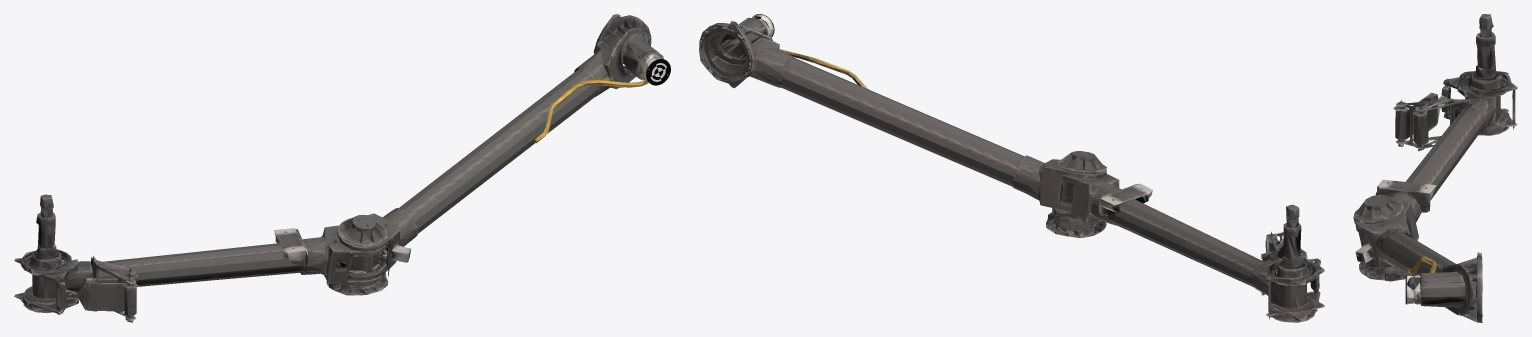
The model's file is rocker_left.obj.
3 renders of one model, left to right at view 1: azimuth 30°, elevation 25°; view 2: azimuth 150°, elevation 25°; view 3: azimuth 270°, elevation 25°, orthographic. The views are drawn at different scales.
Bounding box in the file's own units: 1.78 × 0.4439 × 0.3956.
Materials: 1 (1 with a texture image).
